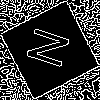N: (25, 25, 80, 74)
